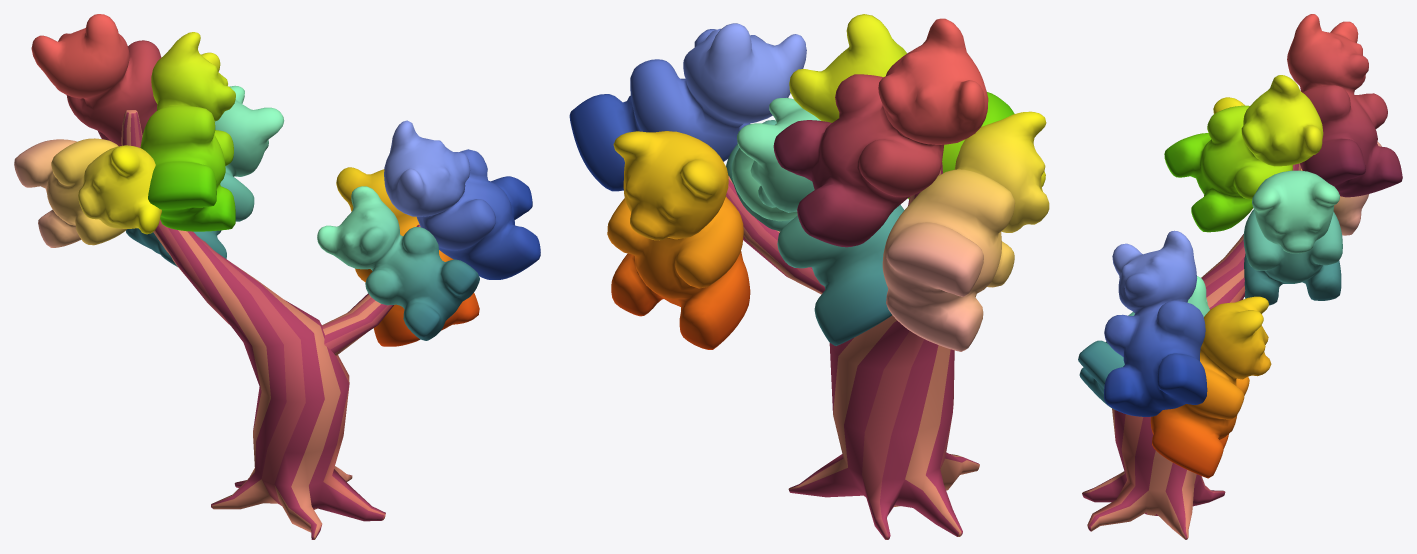
The model's file is cw_tree_27.fbx.
3 views of the same model, side by side, from view 1: azimuth 30°, elevation 25°; view 2: azimuth 150°, elevation 25°; view 3: azimuth 270°, elevation 25° (orthographic). The views are drawn at different scales.
Parts seen in each view (by area): view 1: cw_t_27; view 2: cw_t_27; view 3: cw_t_27.
Boxes of the visible parts, x1,y1,x2,y2 form: cw_t_27: (14,14,540,539); cw_t_27: (569,14,1049,539); cw_t_27: (1078,14,1402,539).
Size of the model in its own units: 196 by 209 by 140.
